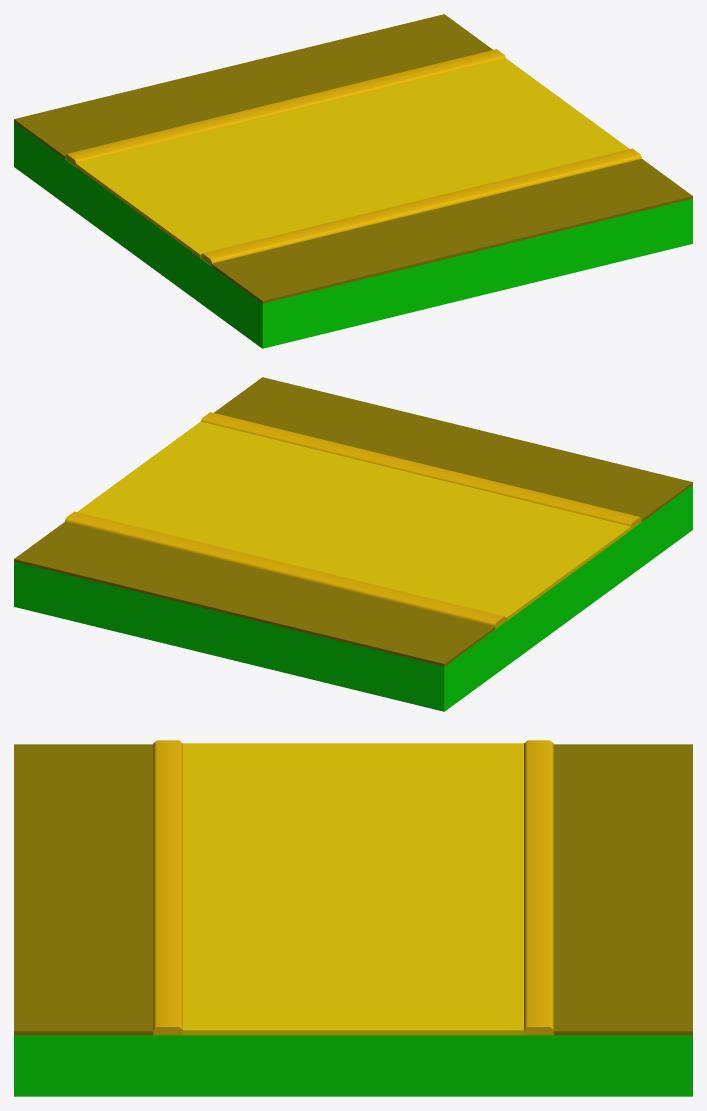
File: IStreet_SM.fbx
3 views of the same model, one above another, from view 1: azimuth 30°, elevation 25°; view 2: azimuth 150°, elevation 25°; view 3: azimuth 270°, elevation 25° (orthographic). The views are drawn at different scales.
Visible parts, largest first — view 1: StraightStreet; view 2: StraightStreet; view 3: StraightStreet.
Boxes of the visible parts, x1,y1,x2,y2 form: StraightStreet: (14, 14, 692, 348); StraightStreet: (14, 377, 692, 711); StraightStreet: (14, 740, 692, 1096).
Bounding box in the file's own units: 100 × 11.35 × 100.
